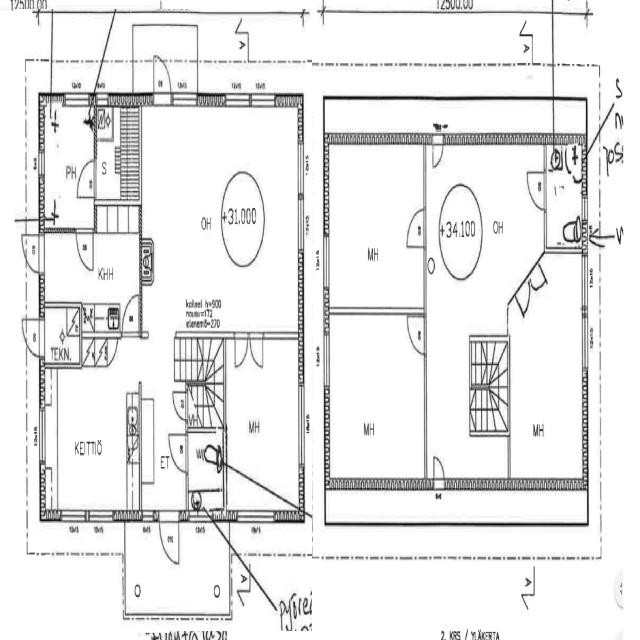door: (157, 507, 182, 569), (232, 329, 265, 371), (524, 166, 549, 213), (404, 202, 427, 249), (74, 225, 96, 273), (152, 53, 173, 103), (509, 271, 531, 318), (22, 228, 43, 276), (76, 156, 98, 201), (167, 430, 189, 474), (22, 314, 44, 358), (121, 289, 141, 336), (405, 311, 426, 355), (171, 383, 189, 424), (430, 448, 447, 491), (430, 134, 446, 173)
window: (295, 379, 308, 475), (234, 504, 278, 529), (511, 267, 533, 317), (578, 302, 592, 372), (320, 323, 332, 391), (578, 248, 590, 316), (296, 185, 307, 256), (295, 138, 307, 201), (86, 501, 116, 526), (37, 399, 48, 466), (58, 502, 88, 526), (321, 228, 332, 293), (170, 86, 200, 109), (248, 88, 277, 111), (530, 255, 545, 299), (224, 88, 252, 111), (62, 88, 92, 108), (36, 143, 46, 182), (141, 505, 156, 526), (580, 188, 588, 225)
zone: (140, 94, 300, 338), (40, 338, 187, 517), (324, 310, 426, 486), (324, 141, 426, 311), (508, 266, 586, 488), (223, 333, 304, 508), (39, 96, 95, 228), (89, 206, 140, 332), (545, 120, 586, 252), (95, 101, 141, 206), (186, 426, 224, 512), (41, 302, 81, 364), (231, 329, 265, 371), (186, 382, 215, 430)
